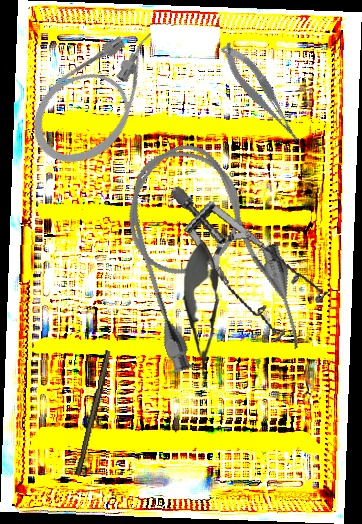Cannula: (104, 126, 313, 389), (14, 12, 189, 182)
Micro Scissor: (216, 34, 305, 154), (180, 239, 224, 389)
Scalpel Handle: (74, 349, 114, 477)
Speculum: (169, 160, 337, 357)
